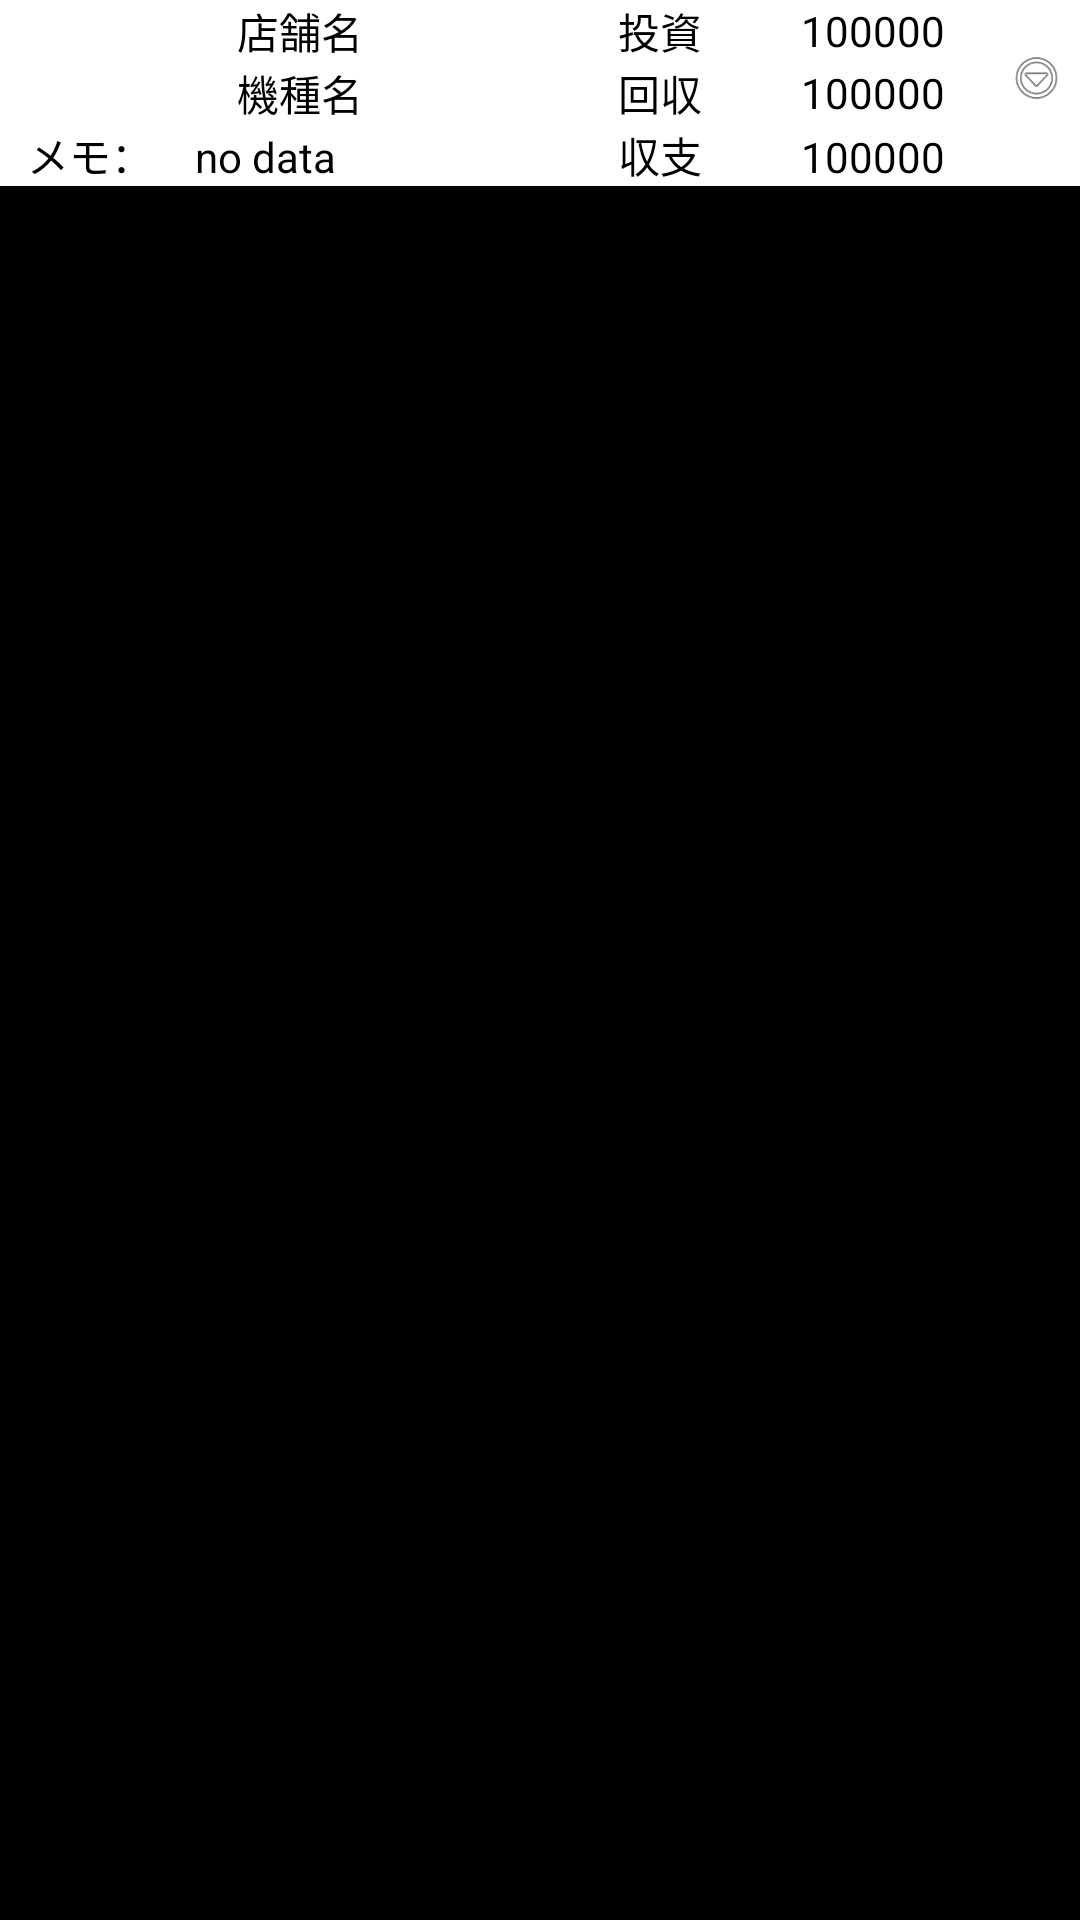

Named icons in this screenshot (1080 × 1920) and their centers, point (x, y):
more: point (1036, 78)
